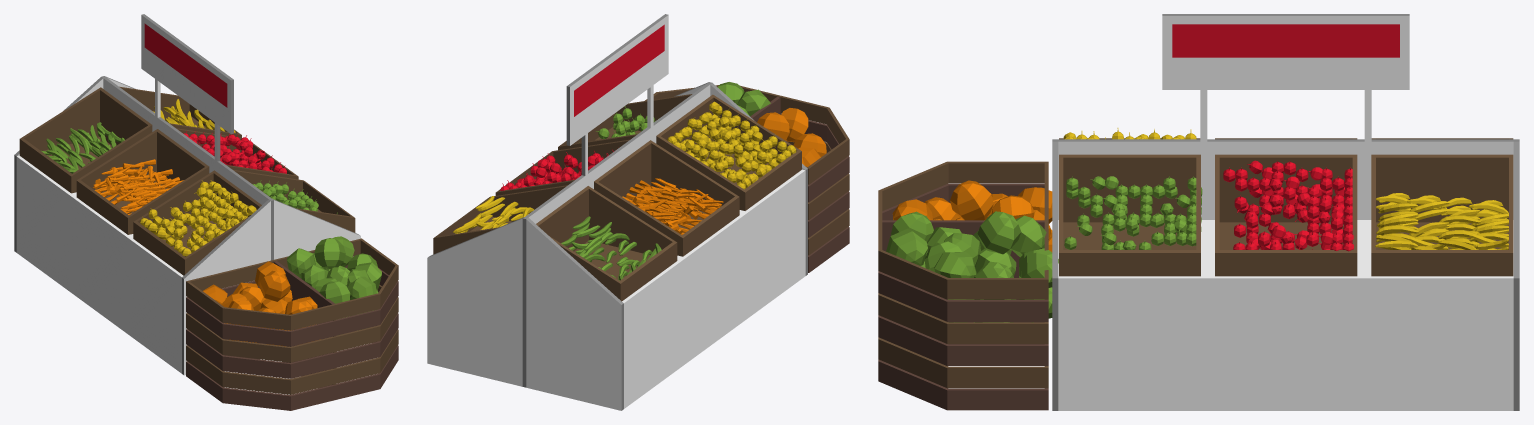
Rendered from SMless_shelf_03.fbx.
3 views of the same model, side by side, from view 1: azimuth 30°, elevation 25°; view 2: azimuth 150°, elevation 25°; view 3: azimuth 270°, elevation 25° (orthographic). The views are drawn at different scales.
Parts seen in each view (by area): view 1: SMless_shelf_03; view 2: SMless_shelf_03; view 3: SMless_shelf_03.
Part boxes in pixels (x1,y1,x2,y2): SMless_shelf_03: (14,14,398,410); SMless_shelf_03: (427,14,849,410); SMless_shelf_03: (878,14,1519,410).
Bounding box in the file's own units: 224 × 296 × 511.
